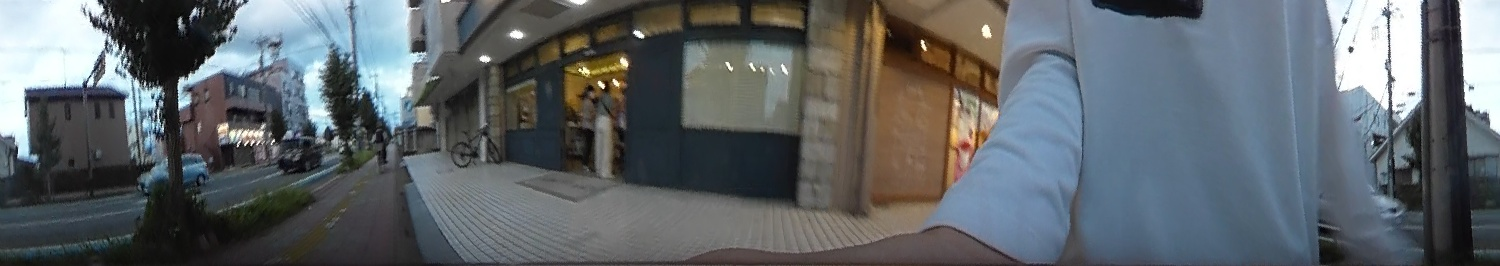difficult_person: (370, 118, 388, 164)
person: (598, 77, 619, 182), (575, 80, 599, 167)
